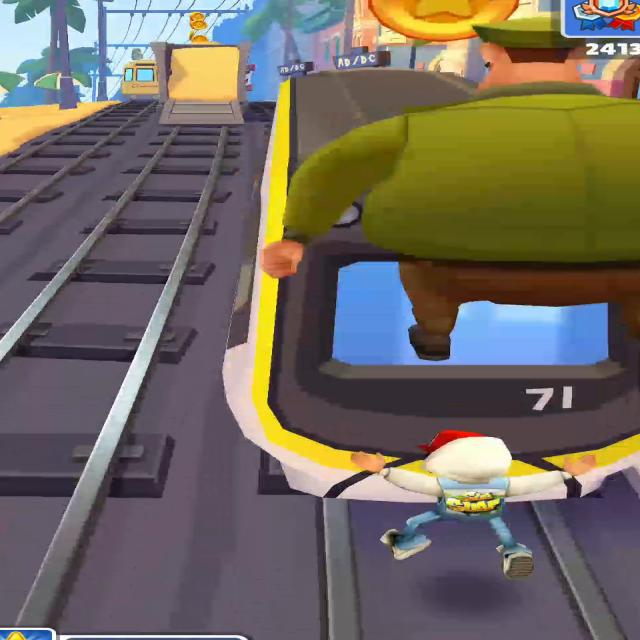climber: (152, 43, 249, 125)
police: (261, 17, 639, 360)
train: (223, 63, 639, 503), (152, 42, 250, 125)
